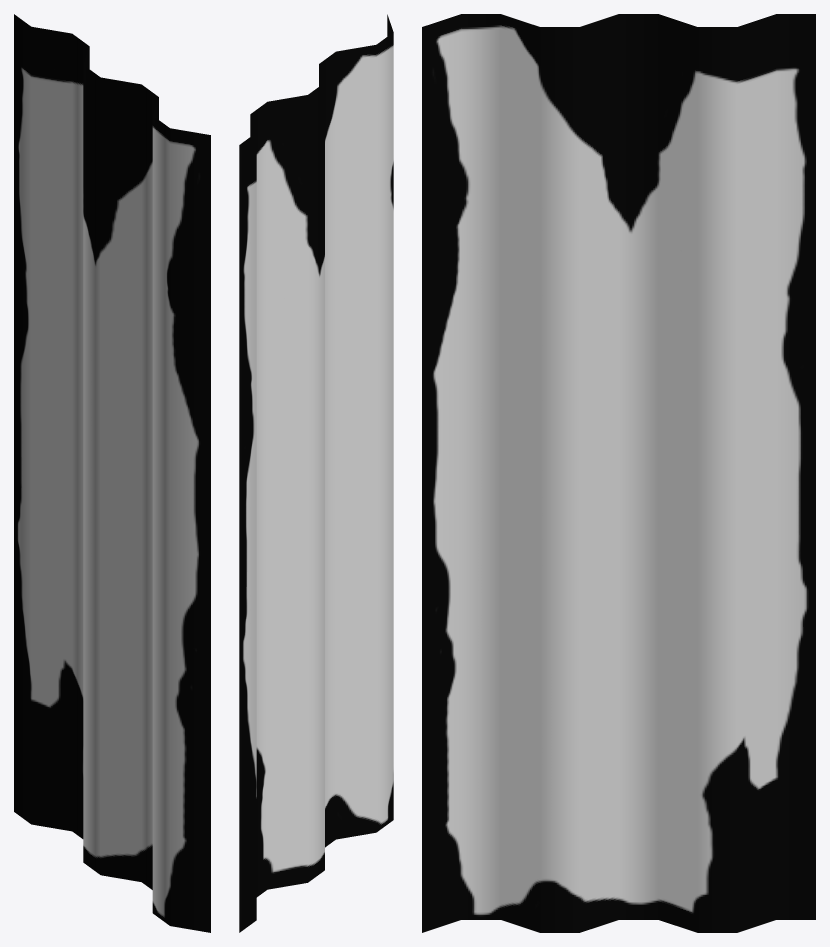
File: MetalPlate2.FBX
3 renders of one model, left to right at view 1: azimuth 30°, elevation 25°; view 2: azimuth 150°, elevation 25°; view 3: azimuth 270°, elevation 25°, orthographic. The views are drawn at different scales.
Parts seen in each view (by area): view 1: MetalPlate2; view 2: MetalPlate2; view 3: MetalPlate2.
Part boxes in pixels (x1,y1,x2,y2): MetalPlate2: (14, 14, 210, 932); MetalPlate2: (239, 14, 393, 932); MetalPlate2: (422, 14, 815, 932).
Size of the model in its own units: 1.8 by 22.88 by 58.08.
